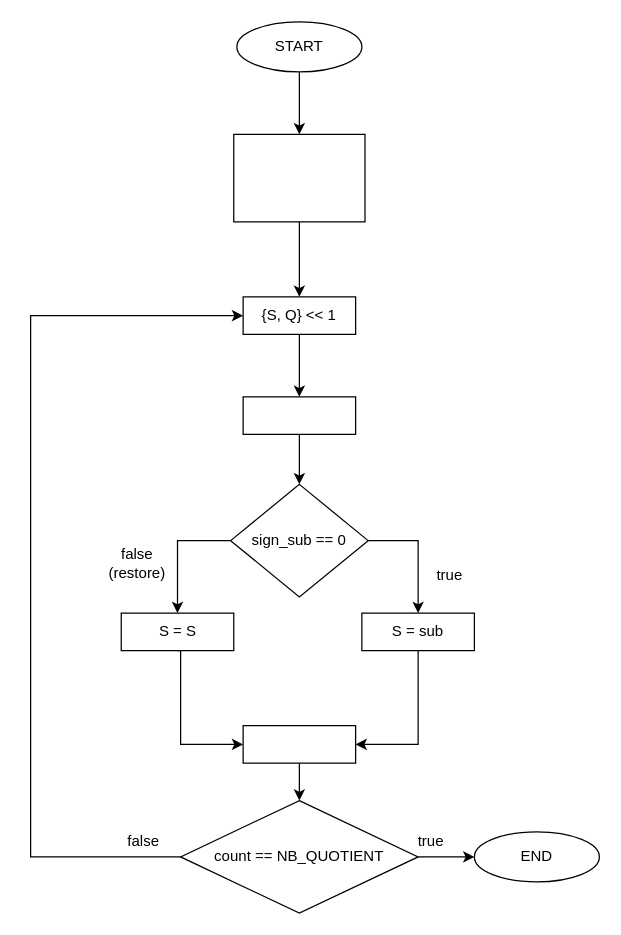
Some shapes in this 621 by 935 pixel diagram are drawn without their labels. Each missing label, with the centre of its shape:
"count++" goes at point 299,743.
"S = 0 count = 0 Q = N" goes at point 298,177.
"sub = S - D" goes at point 299,415.
